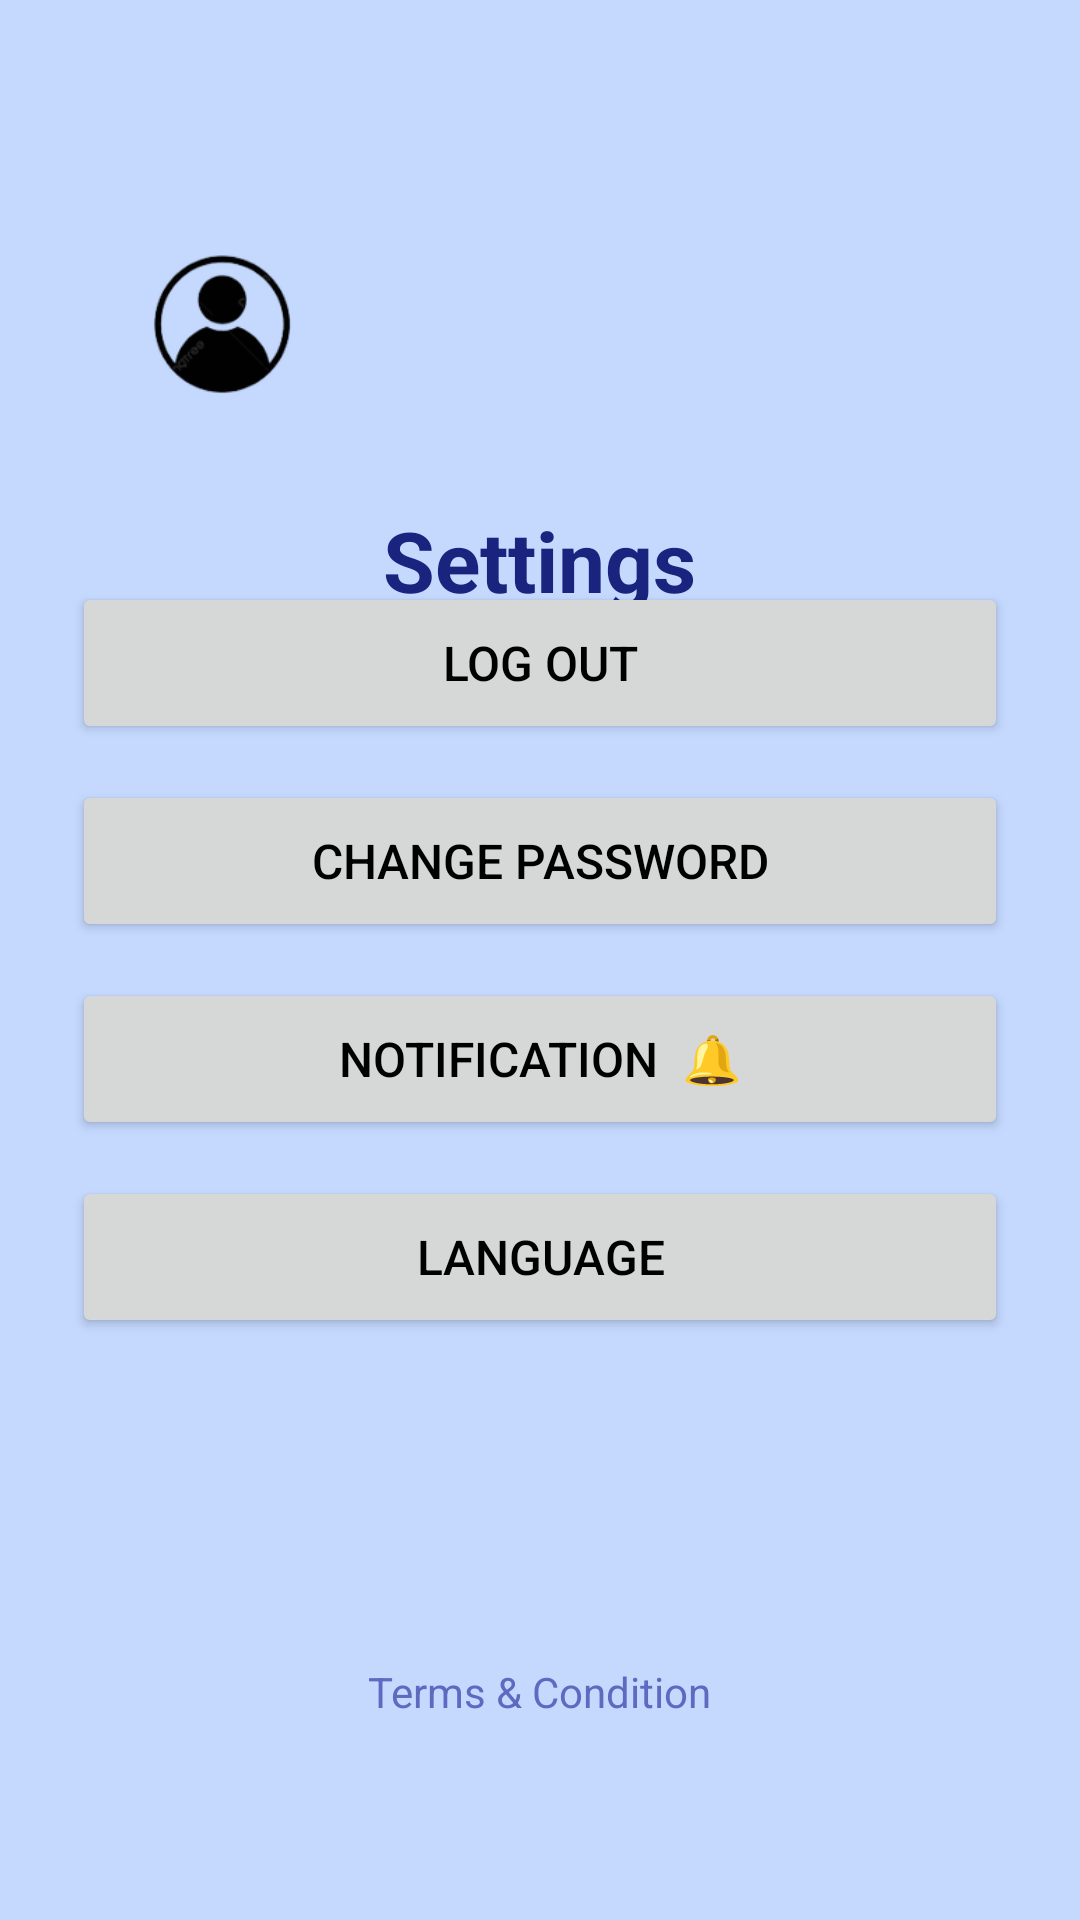

Icons on this 1080 x 1920 Android screen, each with the point to tap as (x=x, y=y):
Profile: (x=222, y=324)
